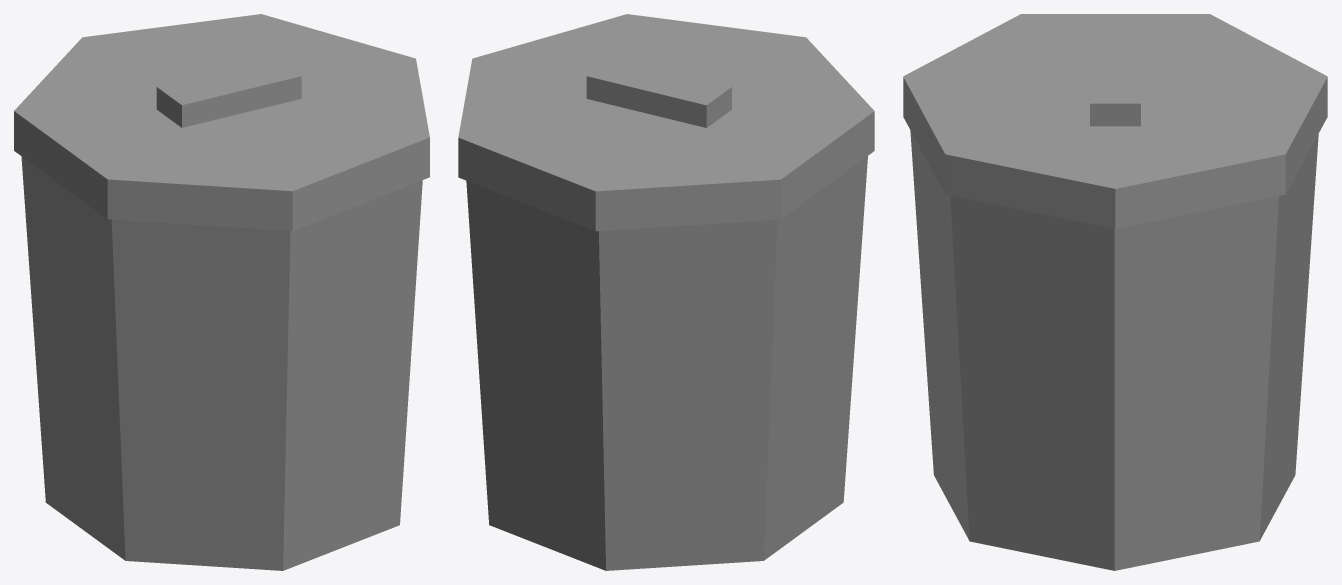
The model's file is trash_002.fbx.
3 views of the same model, side by side, from view 1: azimuth 30°, elevation 25°; view 2: azimuth 150°, elevation 25°; view 3: azimuth 270°, elevation 25° (orthographic).
Parts seen in each view (by area): view 1: trash_002; view 2: trash_002; view 3: trash_002.
Part boxes in pixels (x1,y1,x2,y2): trash_002: (14,14,429,570); trash_002: (458,14,874,570); trash_002: (903,14,1327,570).
Size of the model in its own units: 78.9 by 88.09 by 80.93.
